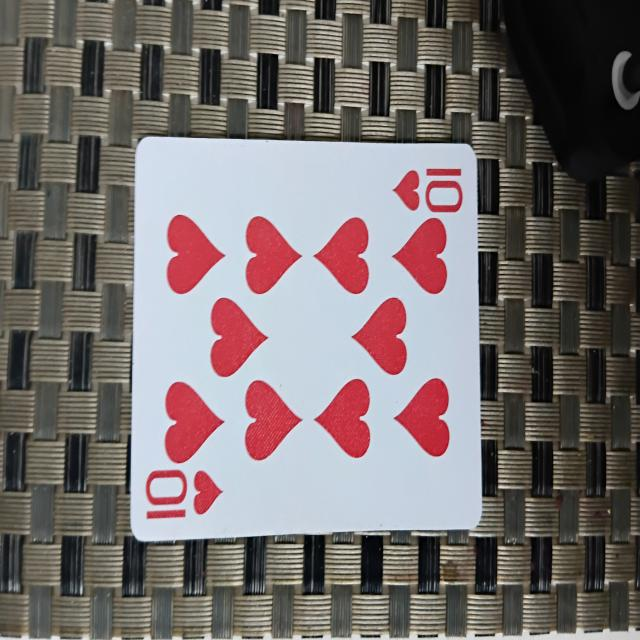10H: (137, 136, 473, 534)
